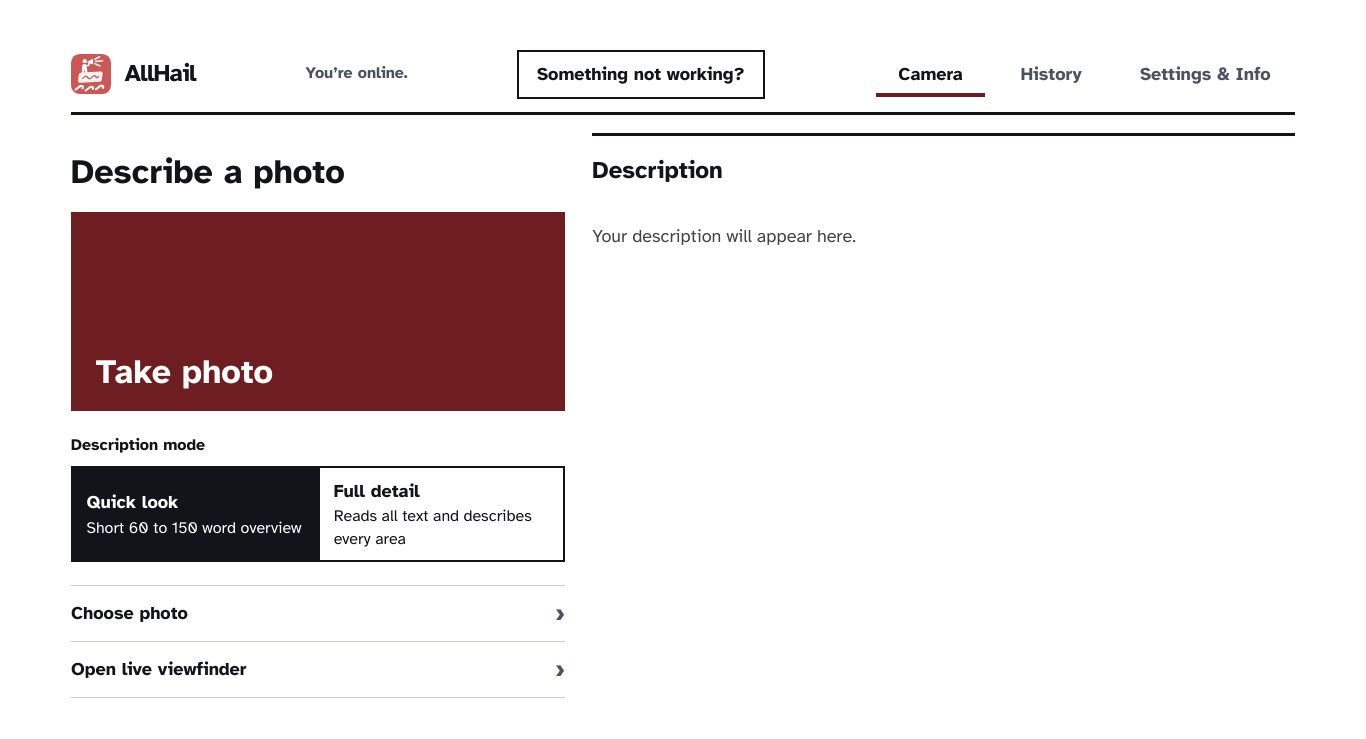
simple mode for a blind or low-vision student › never uses a password box for the PIN, so the browser offers no save-password prompt
Later steps or results of the test are not shown.
Click the button "Settings & Info".
click(1205, 74)  # box [1116, 50, 1295, 98]
(page scrolled)
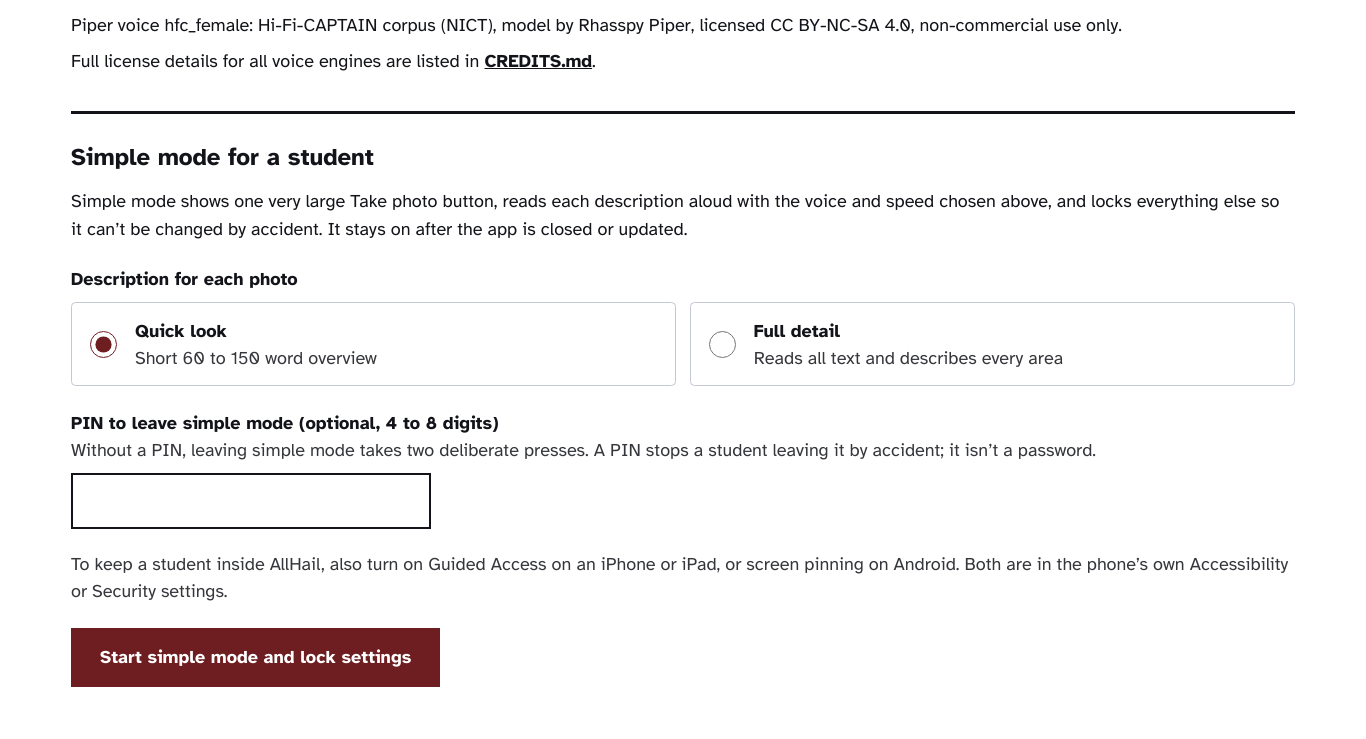
Type "2468" into the field labelled "PIN to leave simple mode (optional, 4 to 8 digits)".
click(251, 501); type("2468")  # box [71, 473, 431, 529]
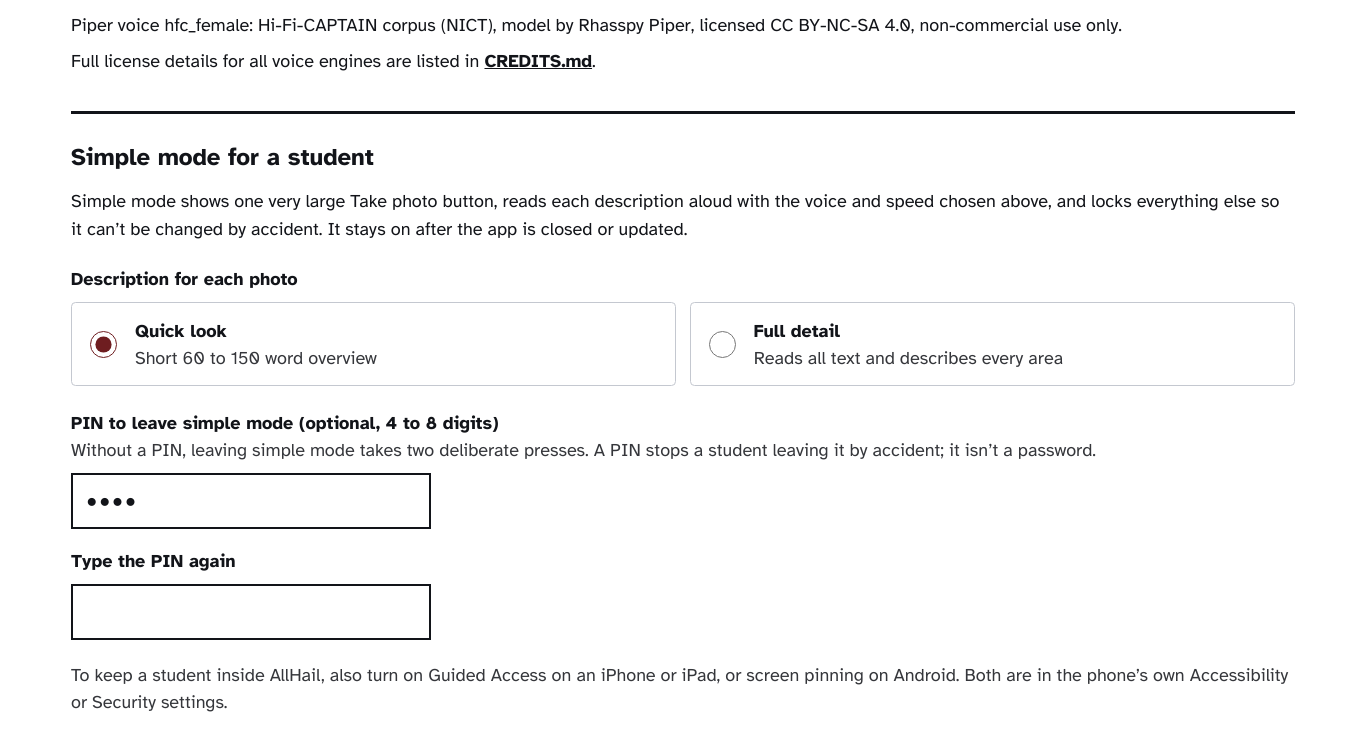
Check: the field labelled "PIN to leave simple mode (optional, 4 to 8 digits)" holds "••••", box [71, 473, 431, 529]
